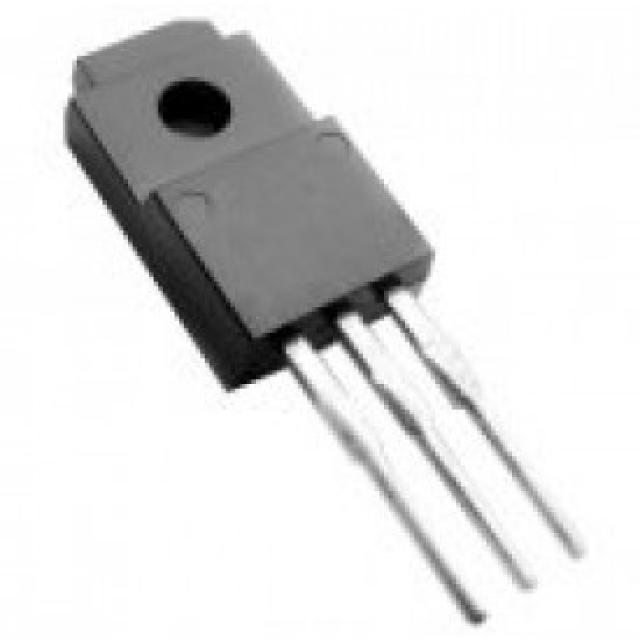Transistor: (68, 28, 585, 631)
